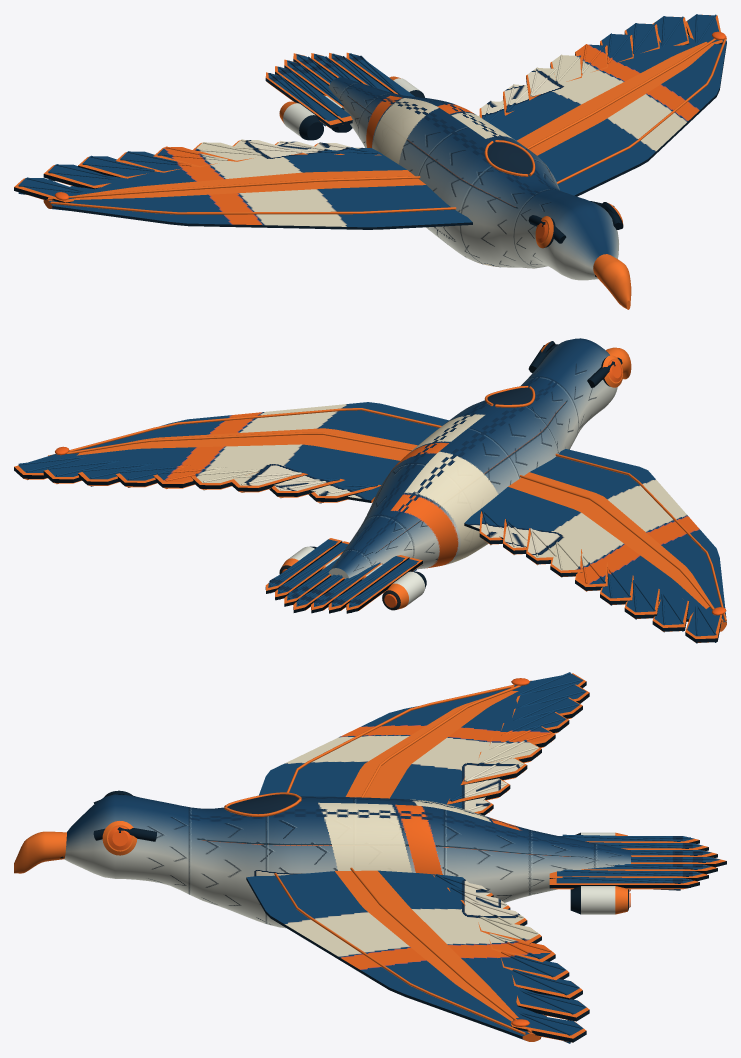
3 renders of one model, top to bottom at view 1: azimuth 30°, elevation 25°; view 2: azimuth 150°, elevation 25°; view 3: azimuth 270°, elevation 25°, orthographic. The views are drawn at different scales.
Visible parts, largest first — view 1: falcon_hull; view 2: falcon_hull; view 3: falcon_hull.
Part boxes in pixels (box(x1,y1,x2,y2)): falcon_hull: box(14, 14, 726, 309); falcon_hull: box(14, 338, 726, 643); falcon_hull: box(14, 672, 726, 1043).
Size of the model in its own units: 40 by 6.37 by 32.98.
1 material, 1 textured.
